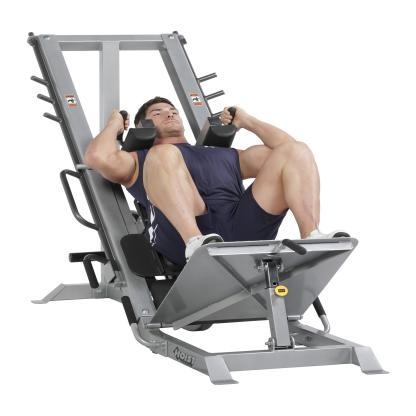leg press: (12, 16, 392, 387)
